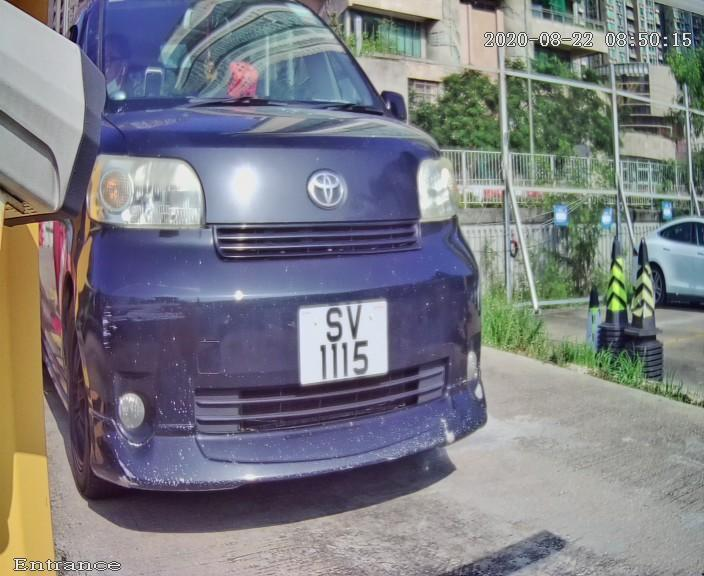Car: (4, 1, 525, 561)
License Plate: (290, 289, 397, 397)
